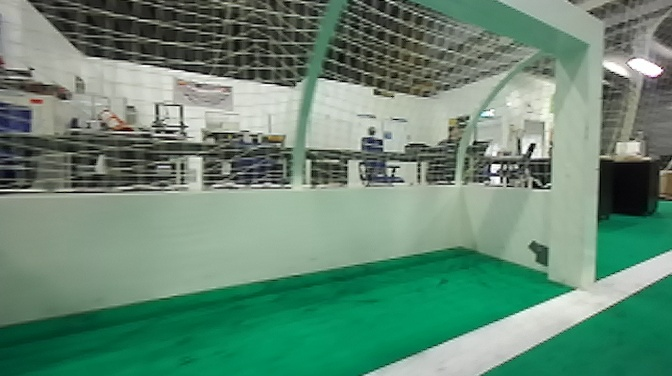goalpost: (557, 36, 604, 294)
